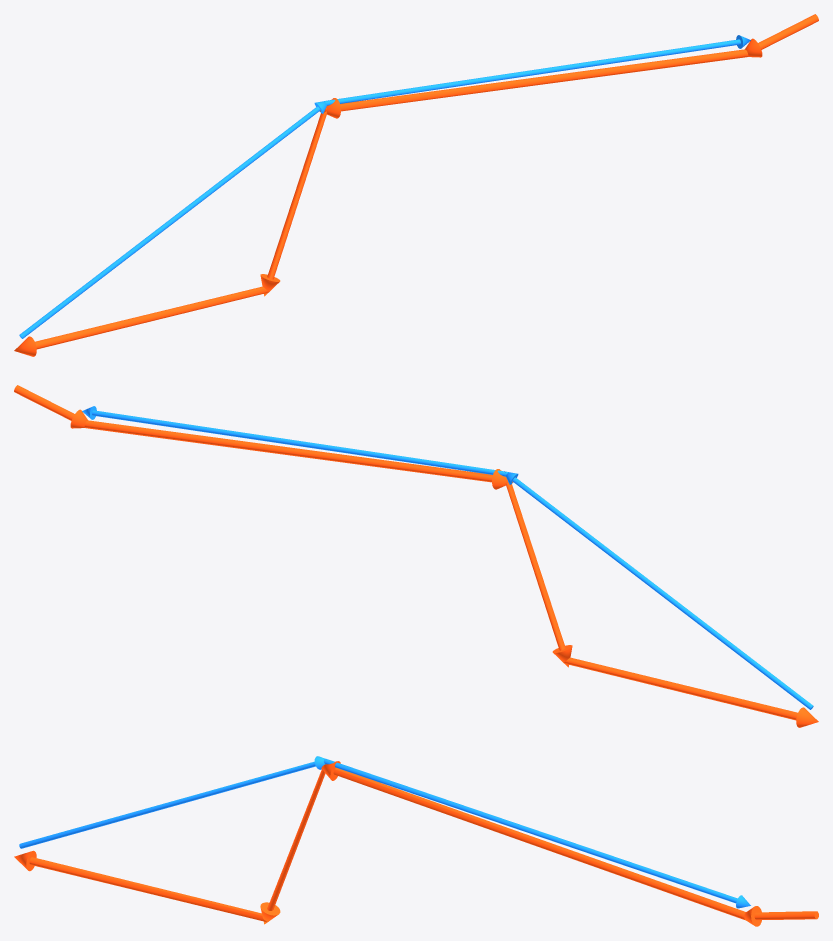
File: stacker_reclaimer_flow.glb
3 renders of one model, top to bottom at view 1: azimuth 30°, elevation 25°; view 2: azimuth 150°, elevation 25°; view 3: azimuth 330°, elevation 25°, orthographic.
Visible parts, largest first — view 1: reclaiming, stacking_mode; view 2: reclaiming, stacking_mode; view 3: reclaiming, stacking_mode.
Boxes of the visible parts, x1,y1,x2,y2 form: reclaiming: (14,14,818,356); stacking_mode: (19,35,750,338); reclaiming: (14,385,818,727); stacking_mode: (82,406,813,709); reclaiming: (14,761,818,926); stacking_mode: (19,756,750,908).
Size of the model in its own units: 6.87 by 1.5 by 0.156.
